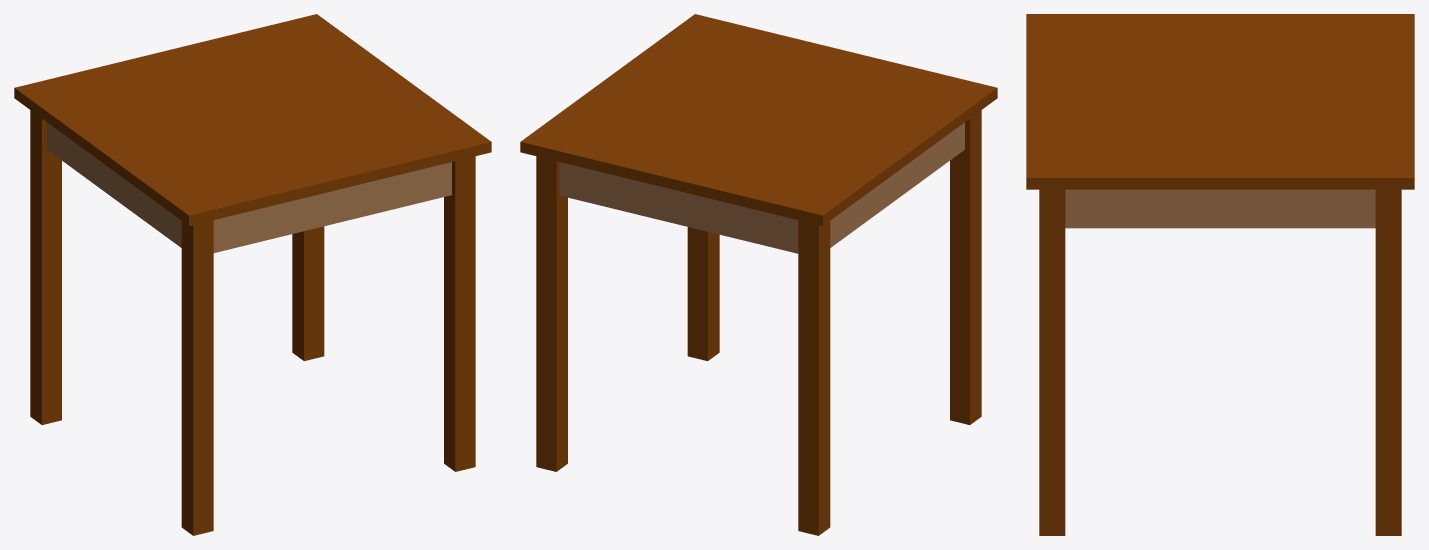
File: ExportedBlenderFBXFile.fbx
3 views of the same model, side by side, from view 1: azimuth 30°, elevation 25°; view 2: azimuth 150°, elevation 25°; view 3: azimuth 270°, elevation 25° (orthographic). The views are drawn at different scales.
Parts seen in each view (by area): view 1: top, leg3, leg4, leg2, support2, leg1, support4; view 2: top, leg2, leg1, leg3, support1, leg4, support4; view 3: top, support3, leg4, leg1.
Boxes of the visible parts, x1,y1,x2,y2 form: top: (14,14,491,225); leg3: (181,220,213,535); leg4: (444,156,475,471); leg2: (30,110,61,424); support2: (213,162,451,252); leg1: (292,226,324,360); support4: (47,122,181,247); top: (520,14,997,225); leg2: (798,220,830,535); leg1: (536,156,567,471); leg3: (950,110,981,424); support1: (559,162,798,253); leg4: (687,227,719,360); support4: (830,122,964,247); top: (1026,14,1414,189); support3: (1065,189,1375,228); leg4: (1039,189,1065,535); leg1: (1375,189,1401,535).
Bounding box in the file's own units: 60 × 62 × 60.
